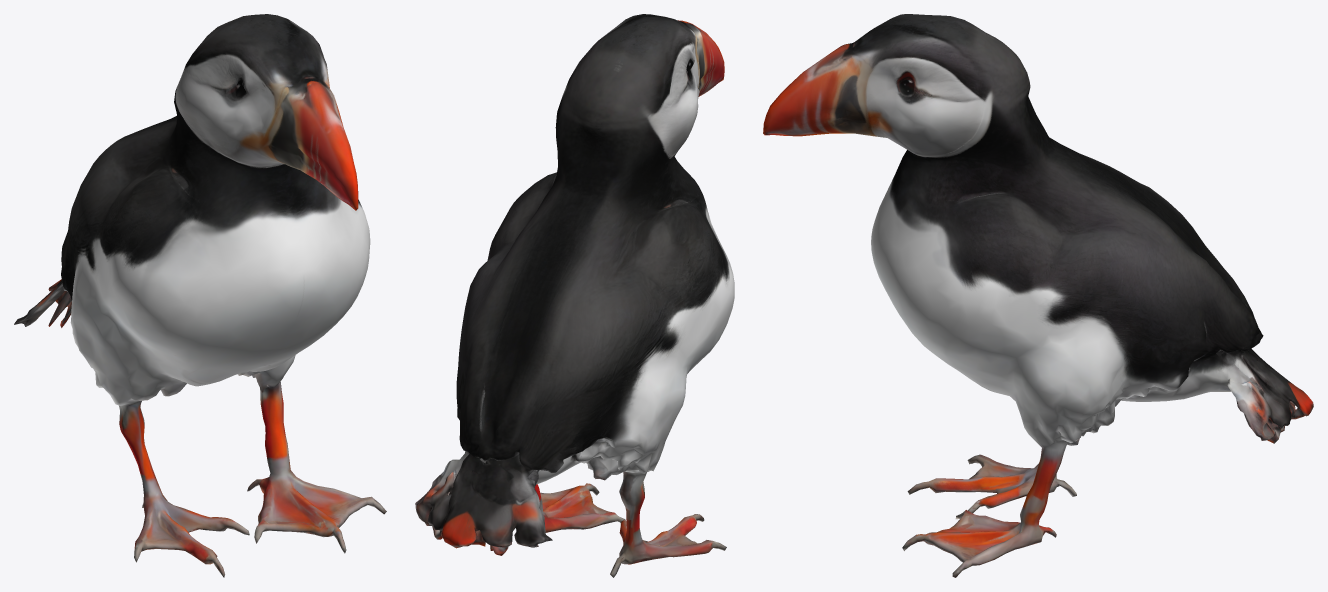
Rendered from Puffin_on_a_Rock_0903041635_texture.fbx.
The picture shows the model from 3 angles, left to right: view 1: azimuth 30°, elevation 25°; view 2: azimuth 150°, elevation 25°; view 3: azimuth 270°, elevation 25°; orthographic projection. The views are drawn at different scales.
Visible parts, largest first — view 1: Mesh1.0; view 2: Mesh1.0; view 3: Mesh1.0.
Part boxes in pixels (x1,y1,x2,y2): Mesh1.0: (14, 14, 386, 577); Mesh1.0: (415, 14, 734, 577); Mesh1.0: (763, 14, 1313, 577).
Size of the model in its own units: 98.64 by 201 by 200.
1 material, 1 textured.
